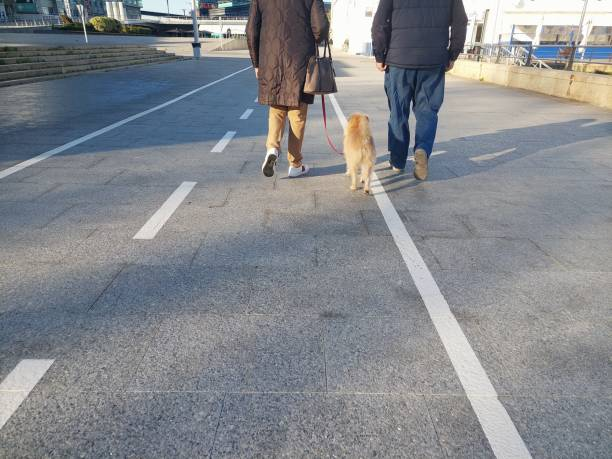kopek: (326, 109, 399, 197)
yaya: (228, 0, 331, 200), (367, 0, 467, 189)
